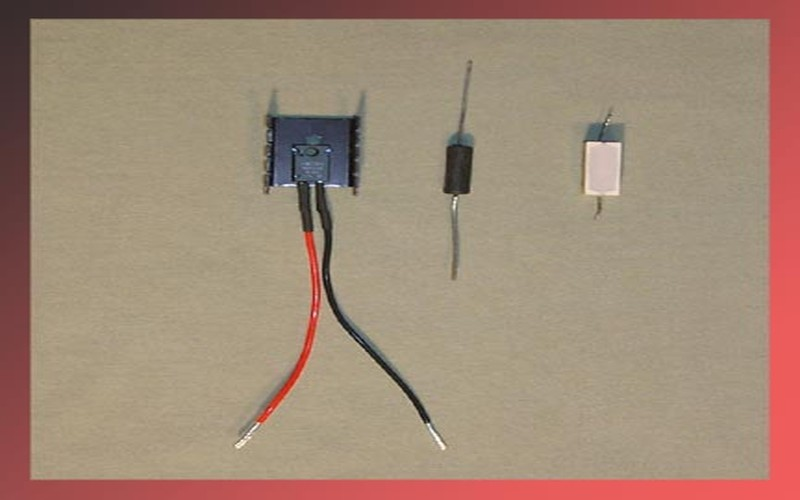Resistor: (219, 94, 380, 219), (431, 59, 494, 286), (567, 107, 634, 224)
